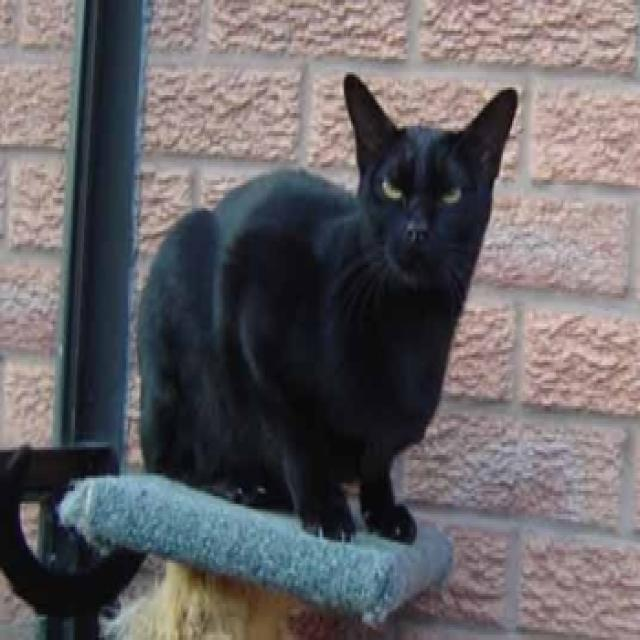Bombay: (340, 68, 522, 307)
